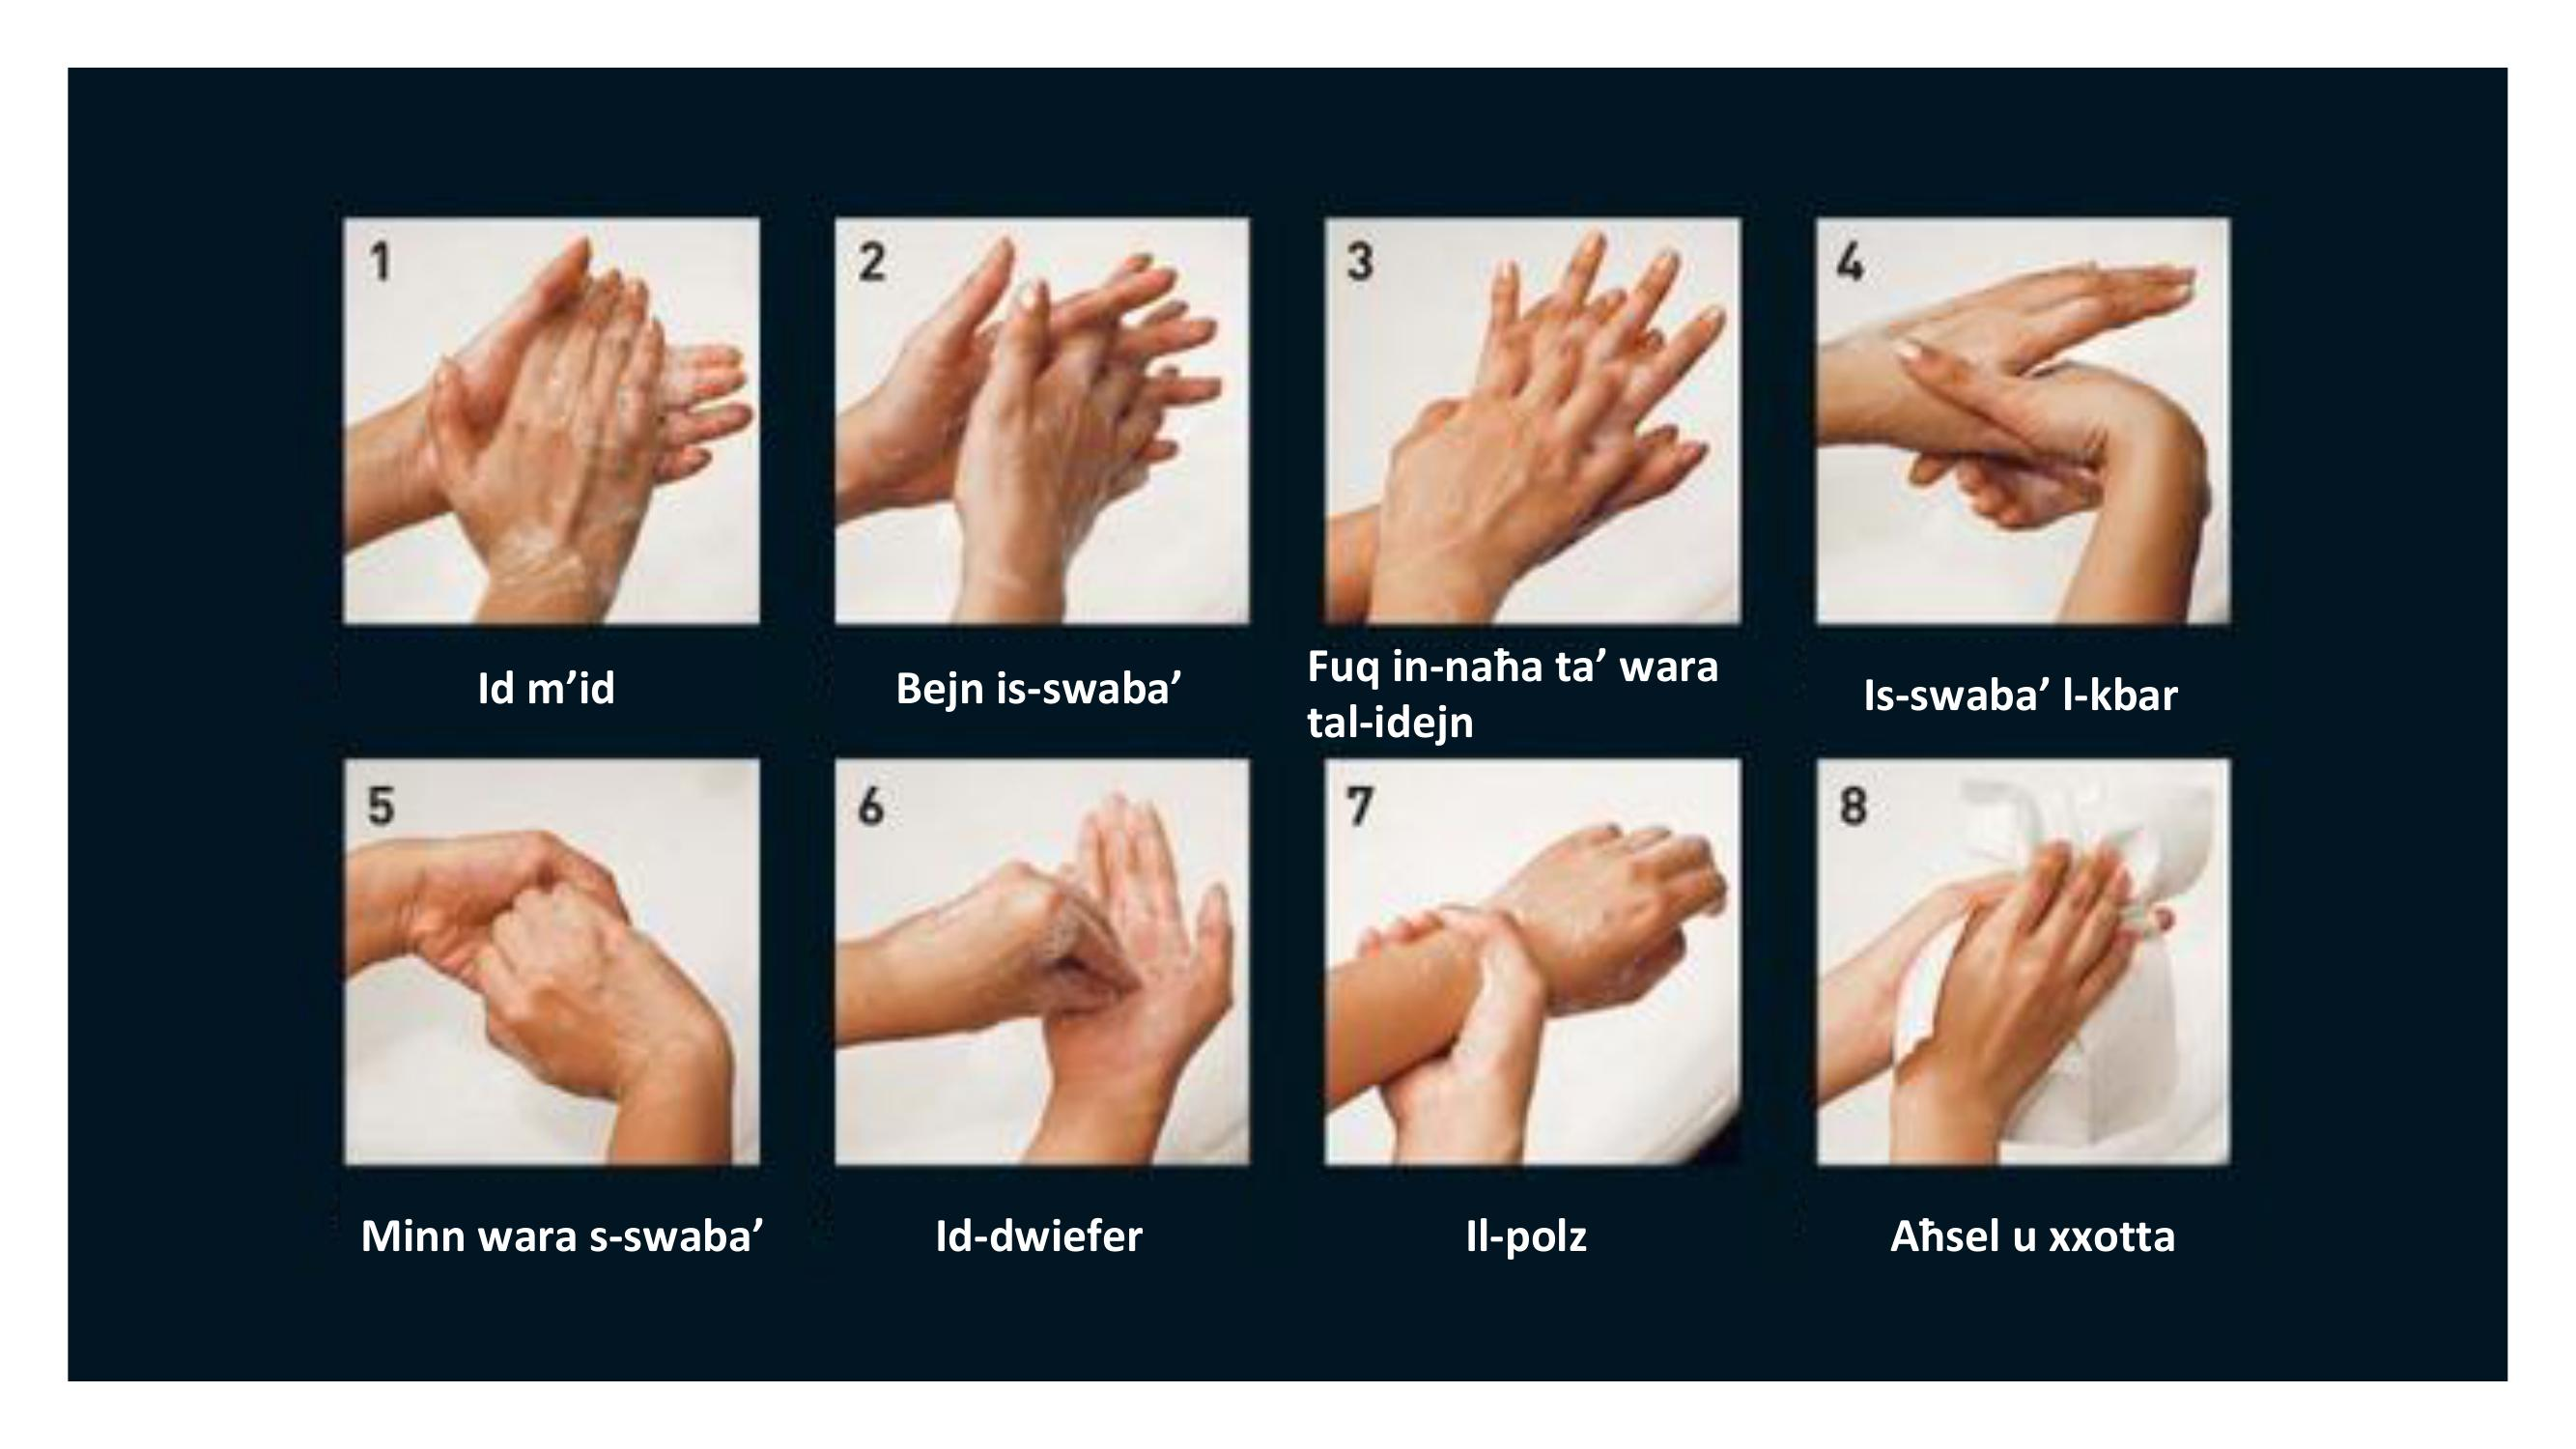text: (1292, 639, 1727, 752), (345, 1189, 773, 1286), (1840, 658, 2206, 741), (879, 648, 1207, 729), (1868, 1200, 2187, 1274), (901, 1201, 1161, 1277), (451, 644, 637, 745), (1445, 1203, 1605, 1277)
